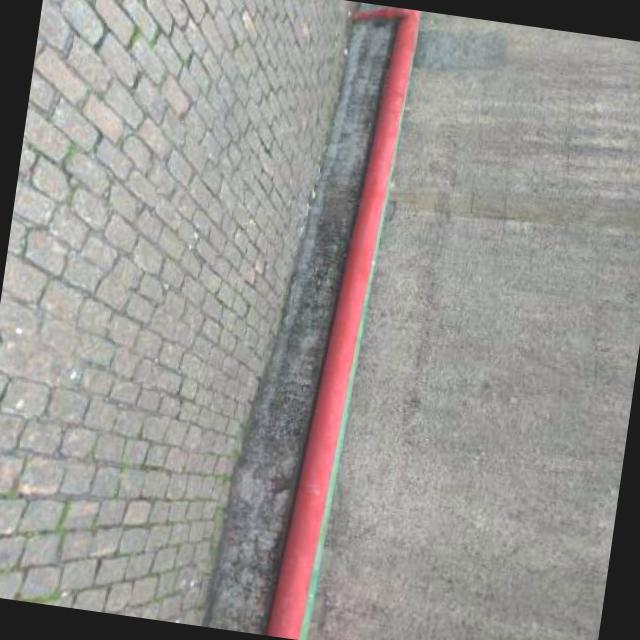gas: (267, 8, 419, 638), (354, 2, 404, 28)
